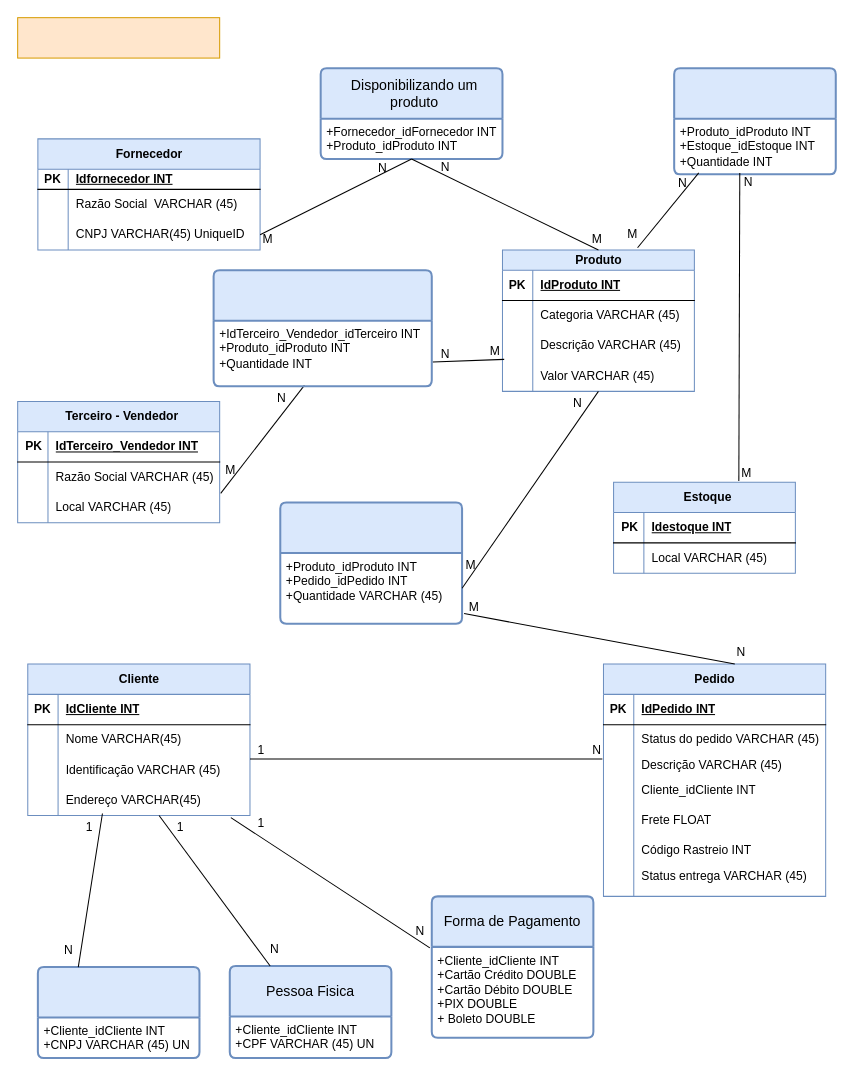
The diagram is 854 pixels wide and 1085 high, and some of its shapes have lost their labels. The box of each missing label's shape, as (x1, y1, x2, y2) in pixels:
E-Commerce: (17, 17, 220, 58)
Pessoa Juridica: (36, 966, 200, 1058)
Produto por Vendedor (Terceiro): (212, 269, 432, 387)
Relação de Produto/Pedido: (279, 501, 463, 624)
Relação Produto/ Estoque: (673, 67, 836, 175)
